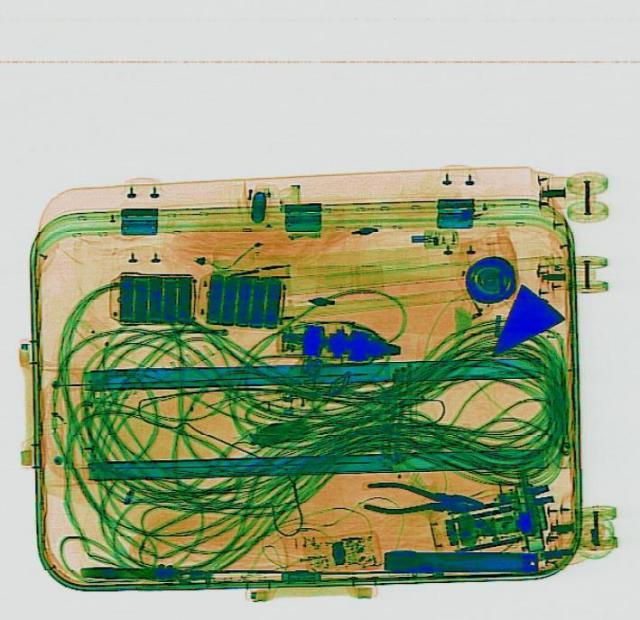Pliers: (358, 477, 484, 520)
